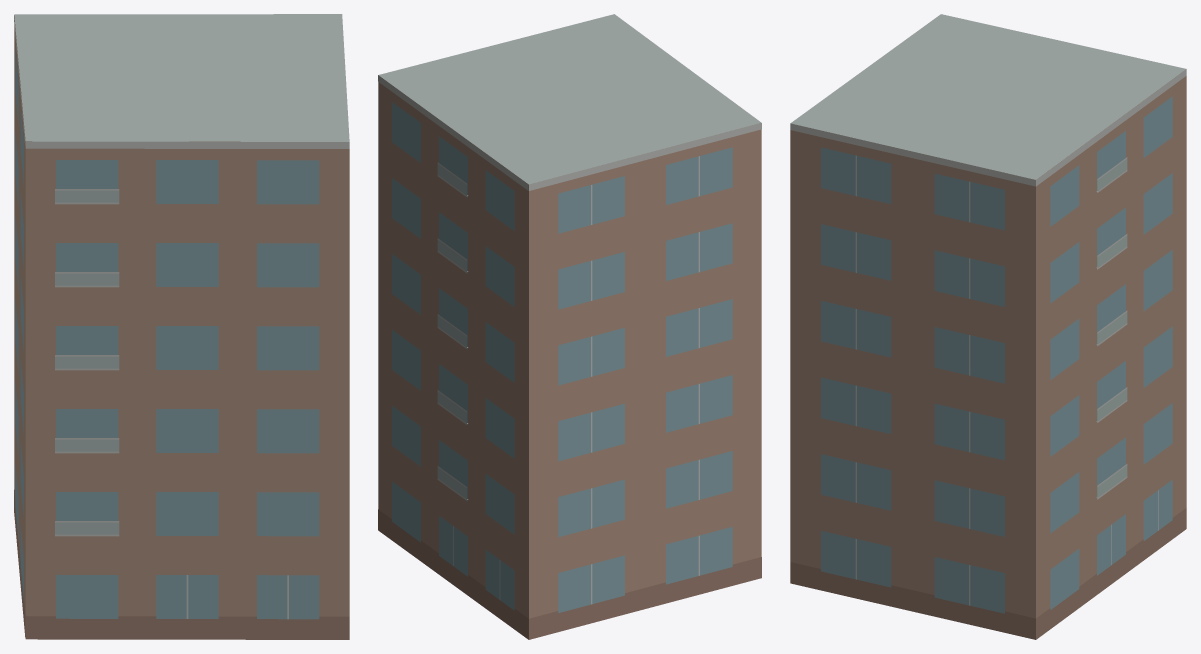
File: survey-upis-33002680.glb
The picture shows the model from 3 angles, left to right: view 1: azimuth 30°, elevation 25°; view 2: azimuth 150°, elevation 25°; view 3: azimuth 270°, elevation 25°; orthographic projection. The views are drawn at different scales.
Visible parts, largest first — view 1: survey-upis-33002680.tmp; view 2: survey-upis-33002680.tmp; view 3: survey-upis-33002680.tmp.
Part boxes in pixels (box(x1,y1,x2,y2)): survey-upis-33002680.tmp: box(14, 14, 349, 639); survey-upis-33002680.tmp: box(378, 14, 761, 639); survey-upis-33002680.tmp: box(790, 14, 1186, 639).
Size of the model in its own units: 13.08 by 16.9 by 13.21.
